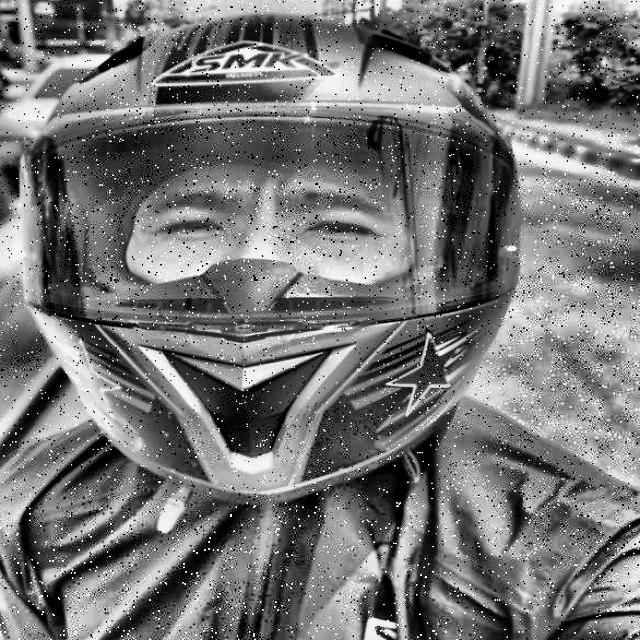Helmet: (0, 0, 545, 519)
